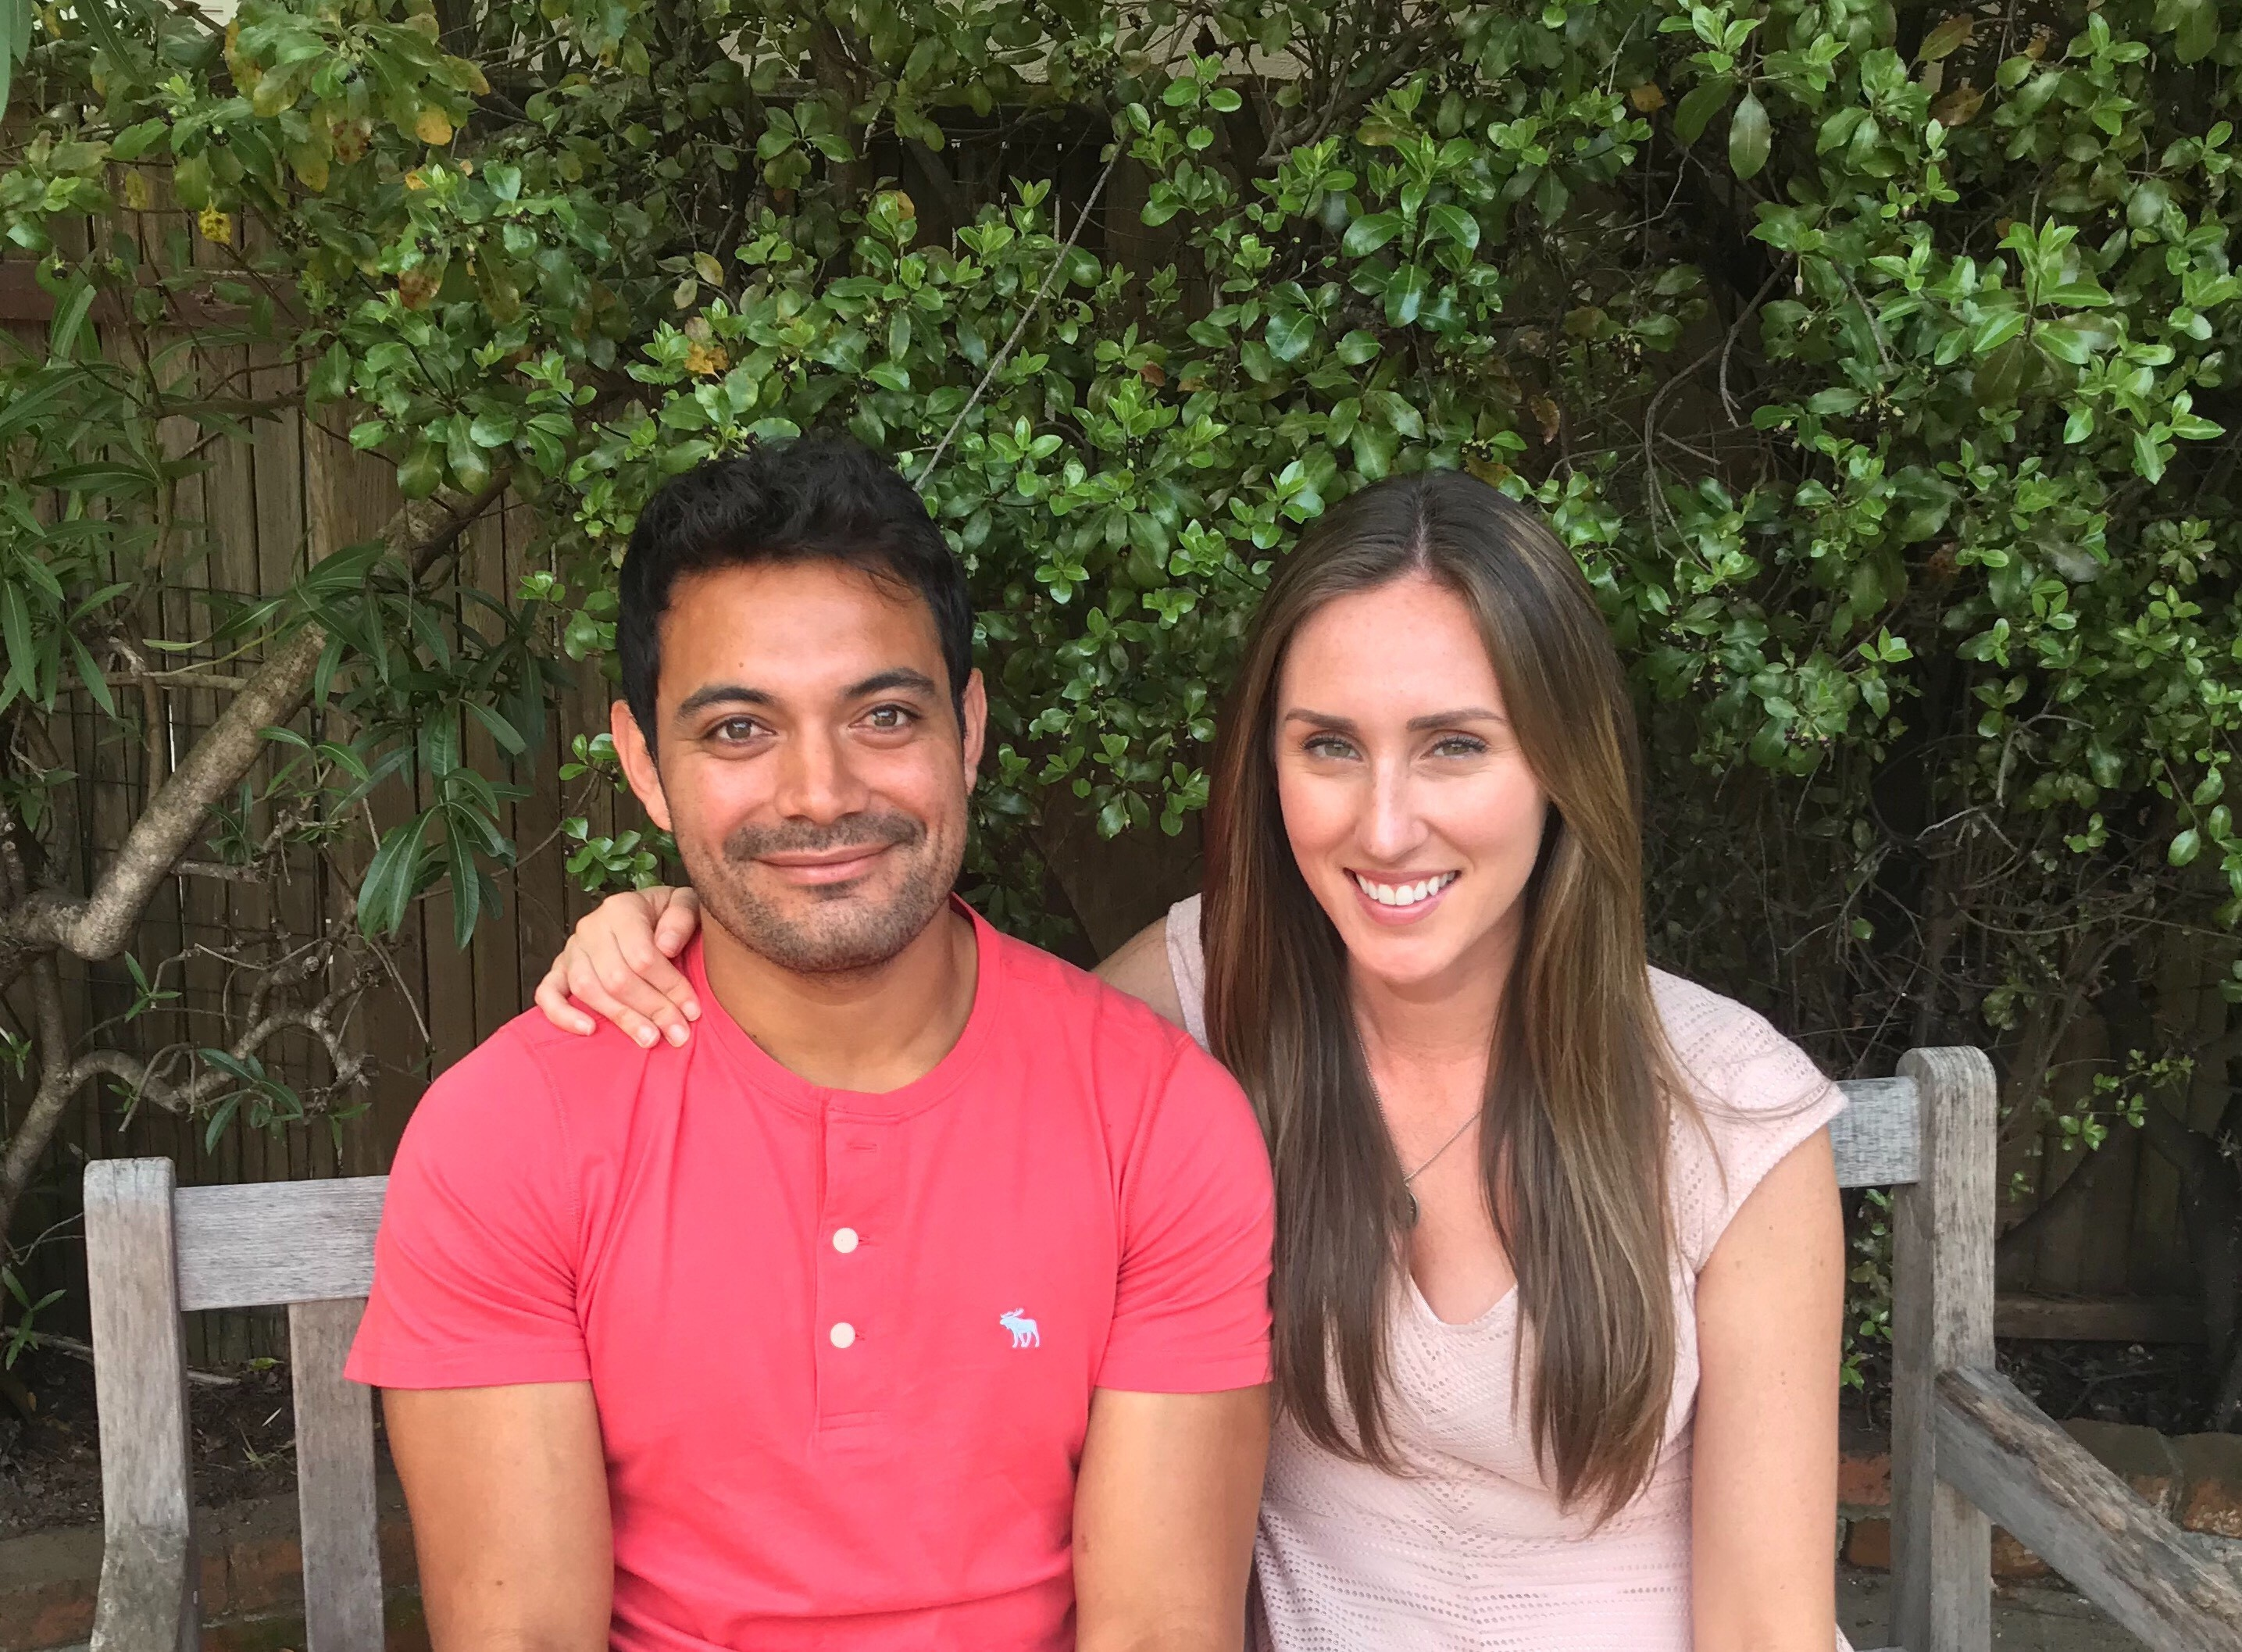mouth: (740, 836, 910, 891), (1325, 863, 1466, 919)
nose: (1346, 822, 1433, 865), (764, 787, 872, 822)
